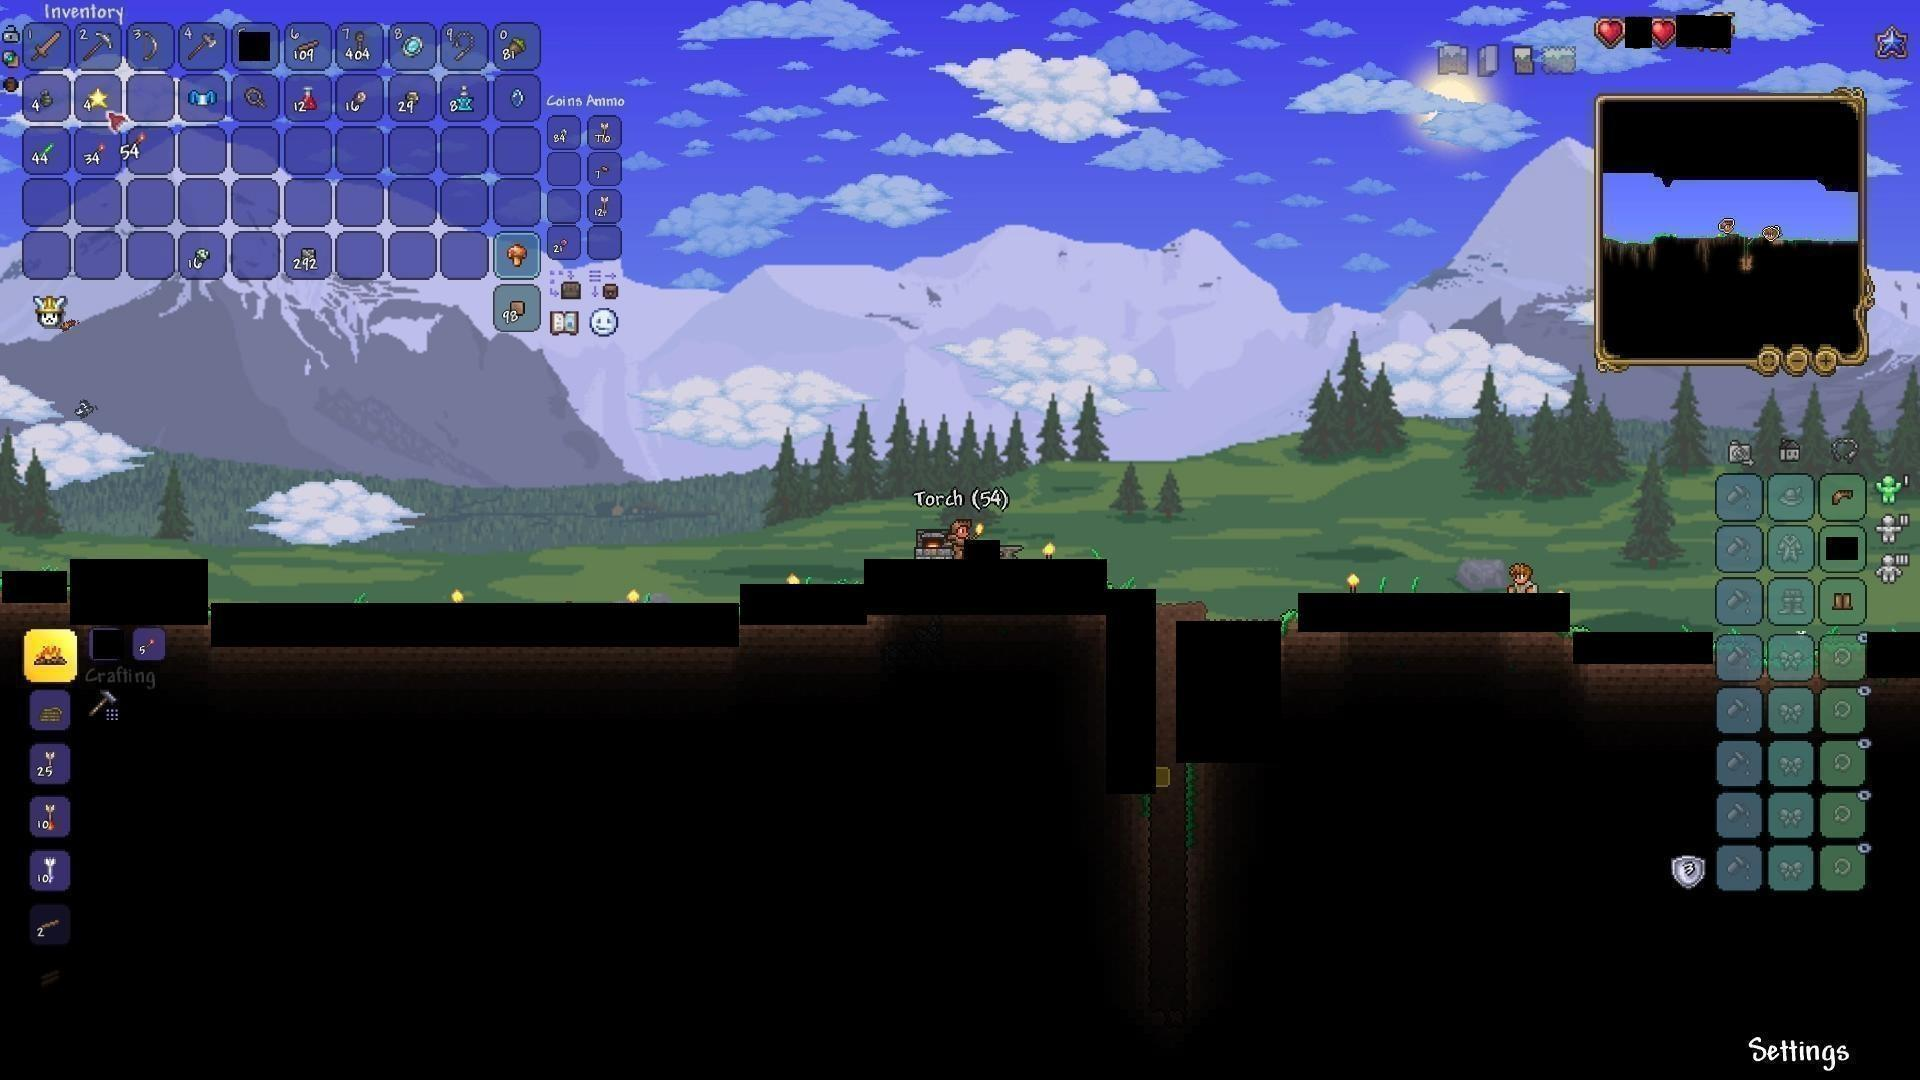heart: (1597, 16, 1626, 45), (1648, 17, 1675, 47)
helmet: (1825, 481, 1859, 512)
legs: (1832, 587, 1857, 617)
